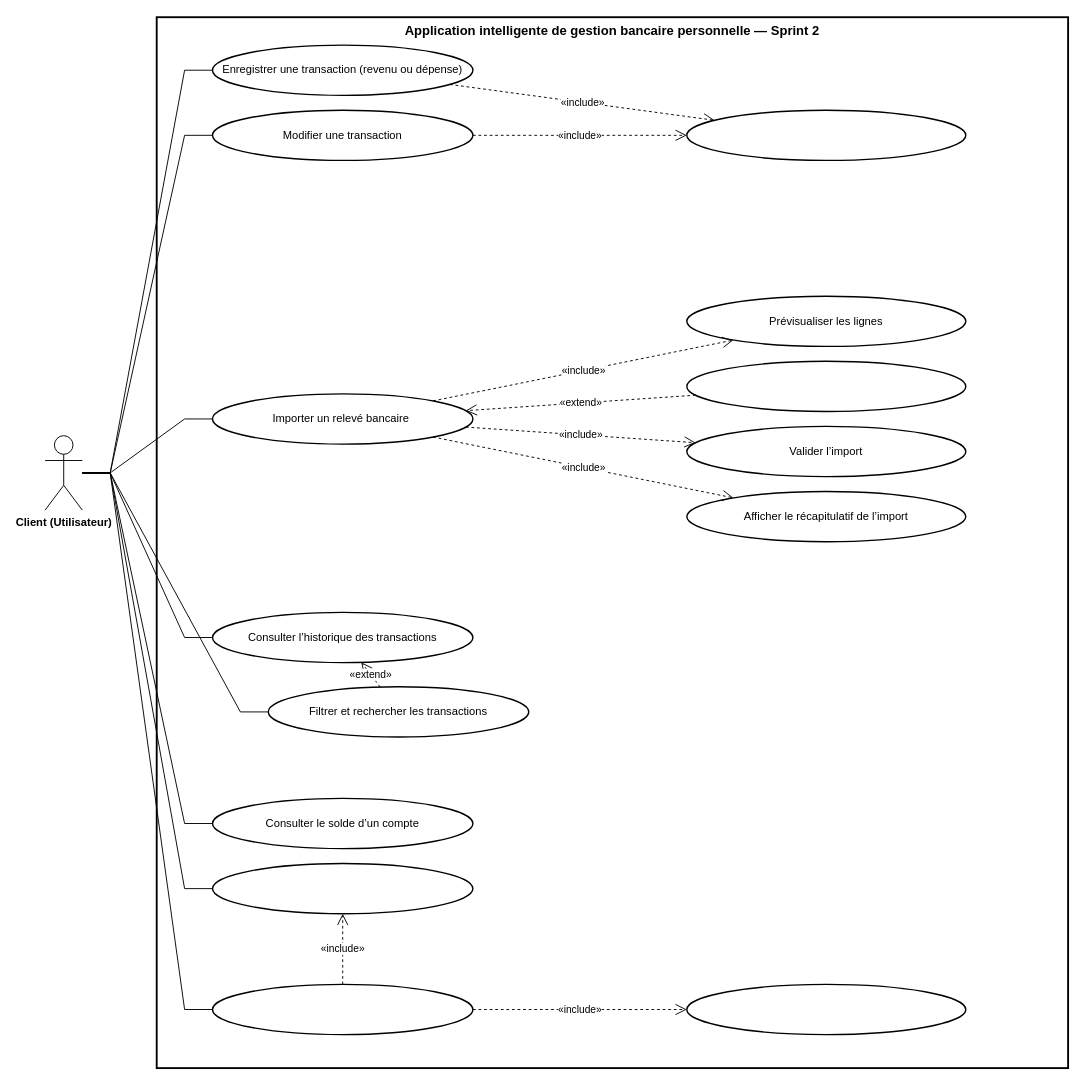
Some shapes in this 1085 by 1084 pixel diagram are drawn without their labels. The shapes that lost their labels are listed below. From the top down, each one's centre as x and y in pixels, then its label:
At (826,135): "Recalculer le solde du compte".
At (826,386): "Signaler les lignes invalides".
At (342,888): "Consulter le solde global".
At (342,1009): "Consulter le tableau de bord".
At (826,1009): "Afficher les dernières transactions".
